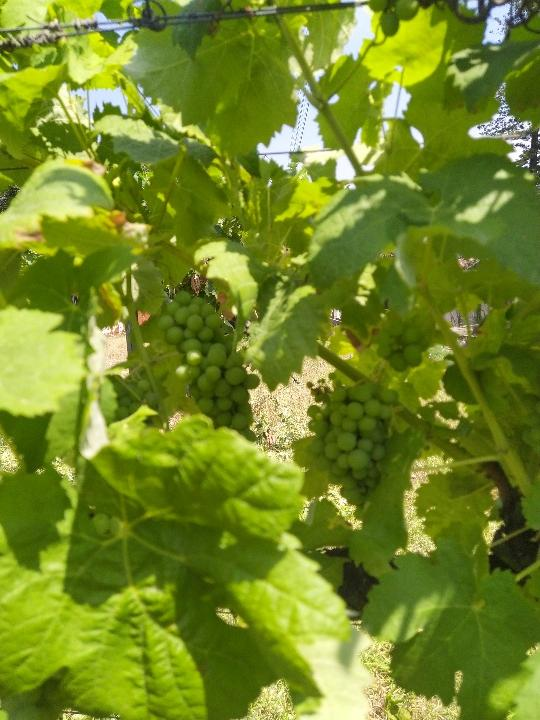grape: (155, 289, 263, 444), (305, 378, 402, 506)
